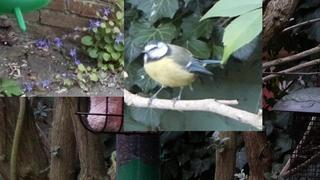blue tit: (139, 40, 222, 109)
